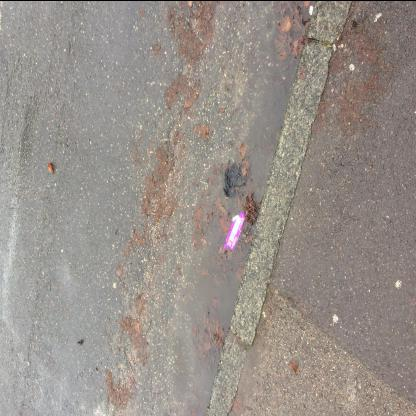plastik: (224, 211, 246, 249)
